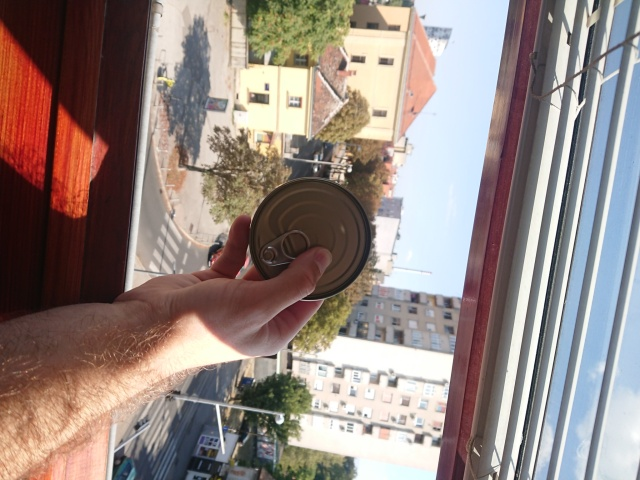Giana Tuna Salad Mexico 185g: (245, 173, 375, 303)
